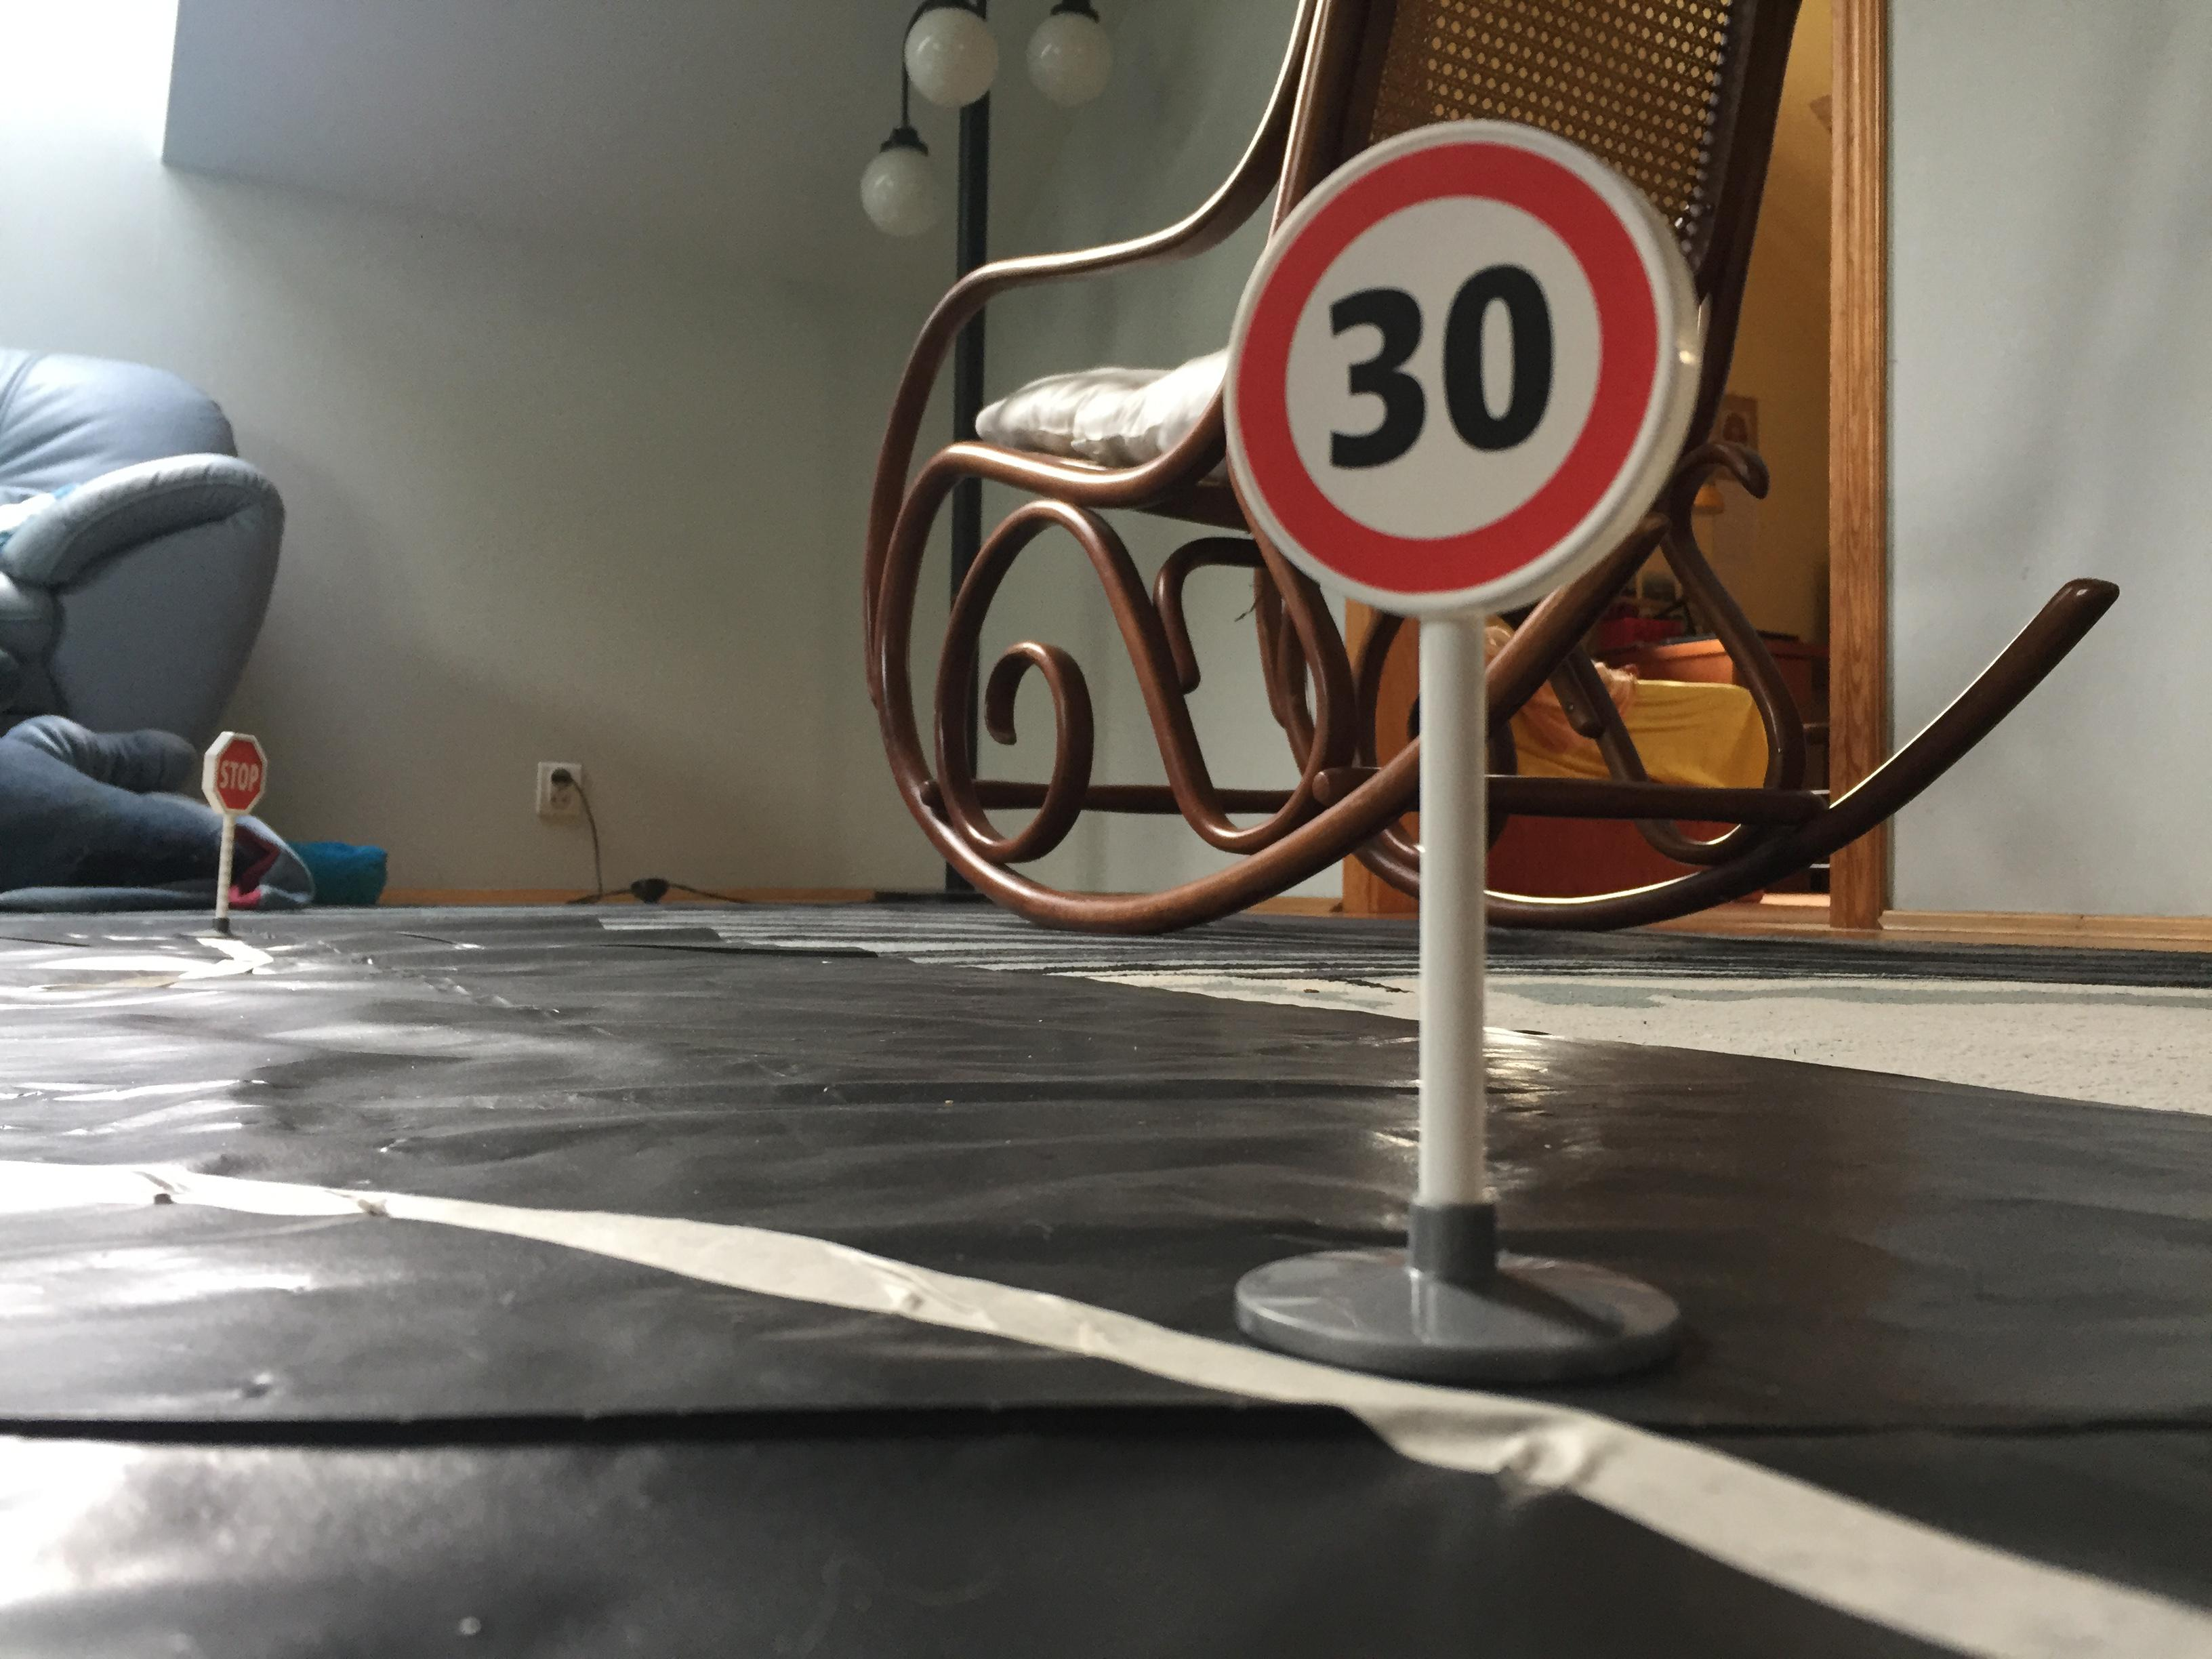speed: (1209, 110, 1707, 624)
